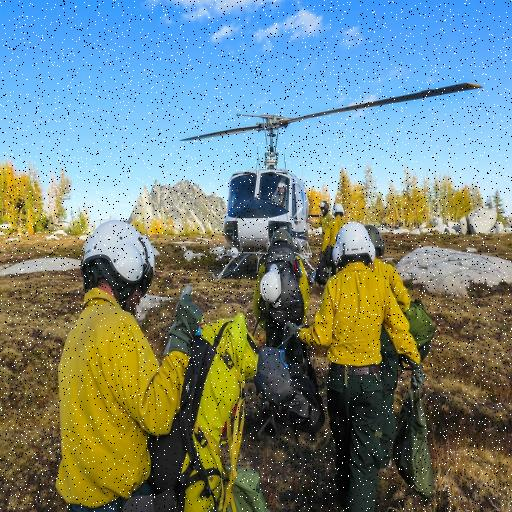helicopter: (185, 85, 476, 278)
